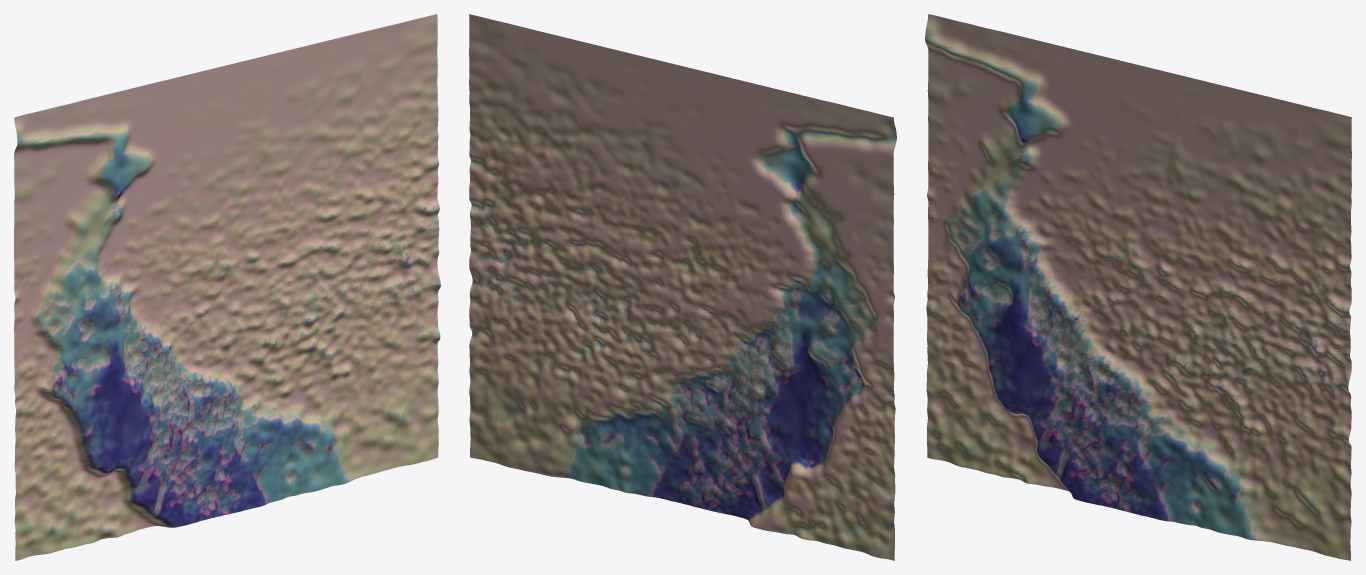
3 renders of one model, left to right at view 1: azimuth 30°, elevation 25°; view 2: azimuth 150°, elevation 25°; view 3: azimuth 330°, elevation 25°, orthographic.
Visible parts, largest first — view 1: world; view 2: world; view 3: world.
Part boxes in pixels (x1,y1,x2,y2): world: (14, 14, 440, 560); world: (469, 14, 896, 560); world: (925, 14, 1351, 560).
Bounding box in the file's own units: 299 × 299 × 9.16.
